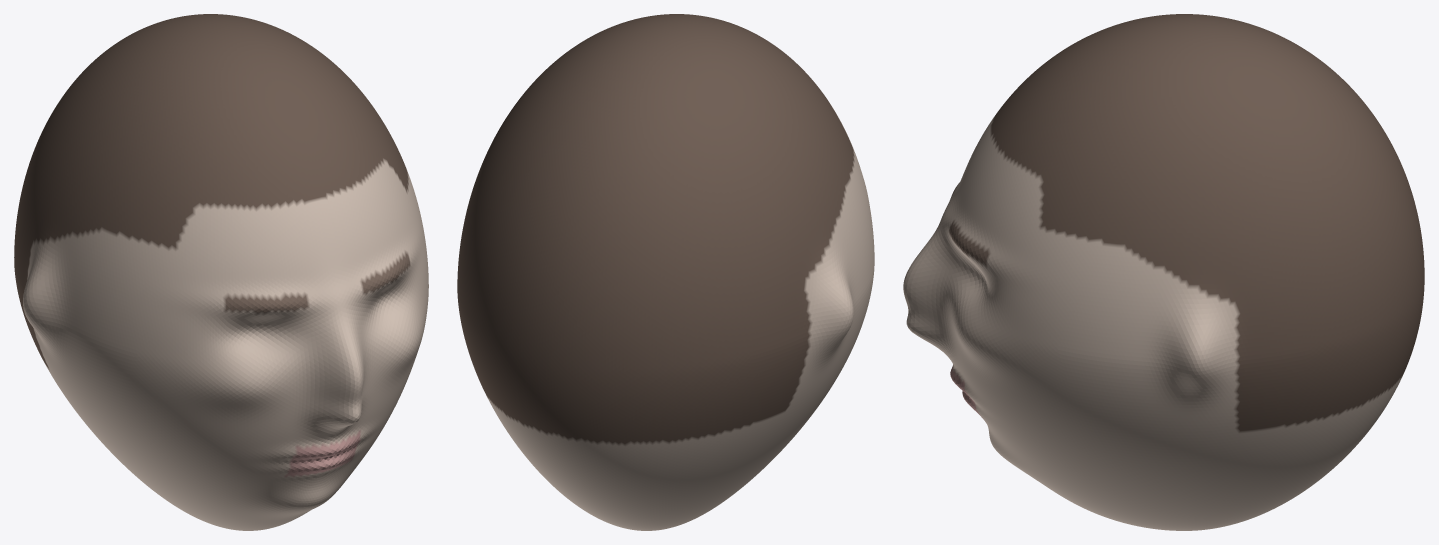
The picture shows the model from 3 angles, left to right: view 1: azimuth 30°, elevation 25°; view 2: azimuth 150°, elevation 25°; view 3: azimuth 270°, elevation 25°; orthographic projection. The views are drawn at different scales.
Visible parts, largest first — view 1: geometry_0; view 2: geometry_0; view 3: geometry_0.
Part boxes in pixels (left/top/right/bottom): geometry_0: left=14, top=14, right=428, bottom=530; geometry_0: left=457, top=14, right=874, bottom=530; geometry_0: left=903, top=14, right=1424, bottom=530.
Size of the model in its own units: 0.2082 by 0.252 by 0.2398.
